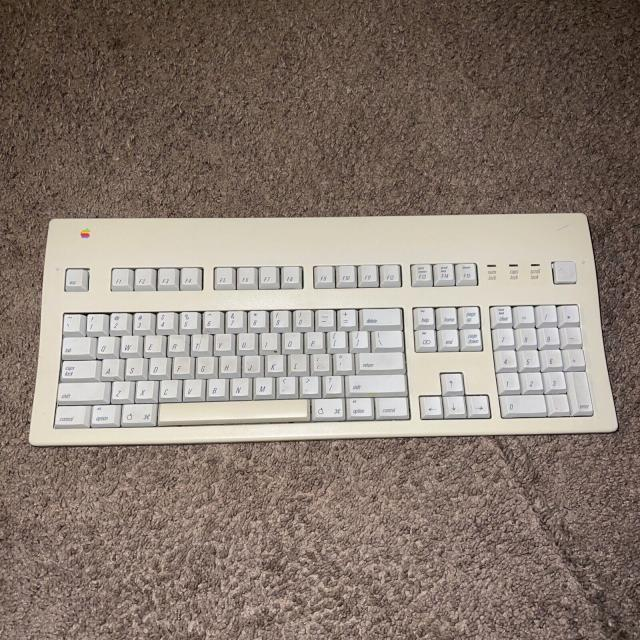keyboard: (26, 215, 616, 445)
